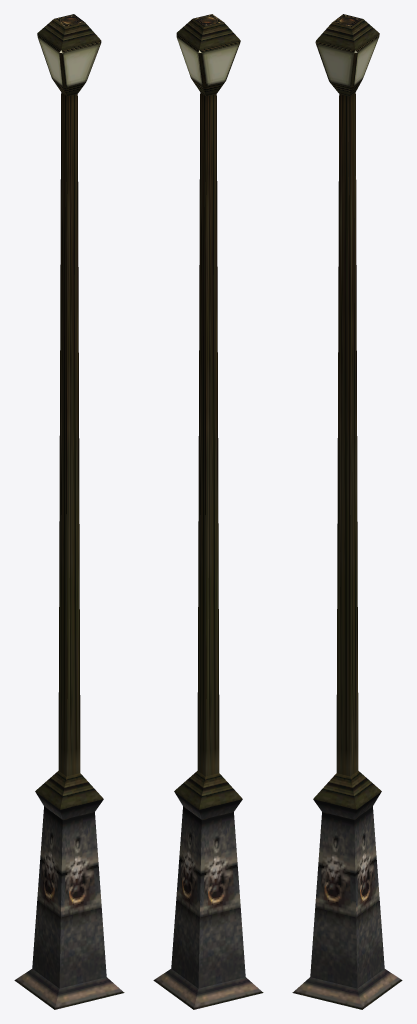
The model's file is lamppost.fbx.
3 views of the same model, side by side, from view 1: azimuth 30°, elevation 25°; view 2: azimuth 210°, elevation 25°; view 3: azimuth 330°, elevation 25° (orthographic).
Parts seen in each view (by area): view 1: mesh_0; view 2: mesh_0; view 3: mesh_0.
Part boxes in pixels (x1,y1,x2,y2): mesh_0: (14,14,124,1009); mesh_0: (153,14,263,1009); mesh_0: (292,14,402,1009).
Size of the model in its own units: 32.77 by 432 by 32.77.
1 material, 1 textured.
